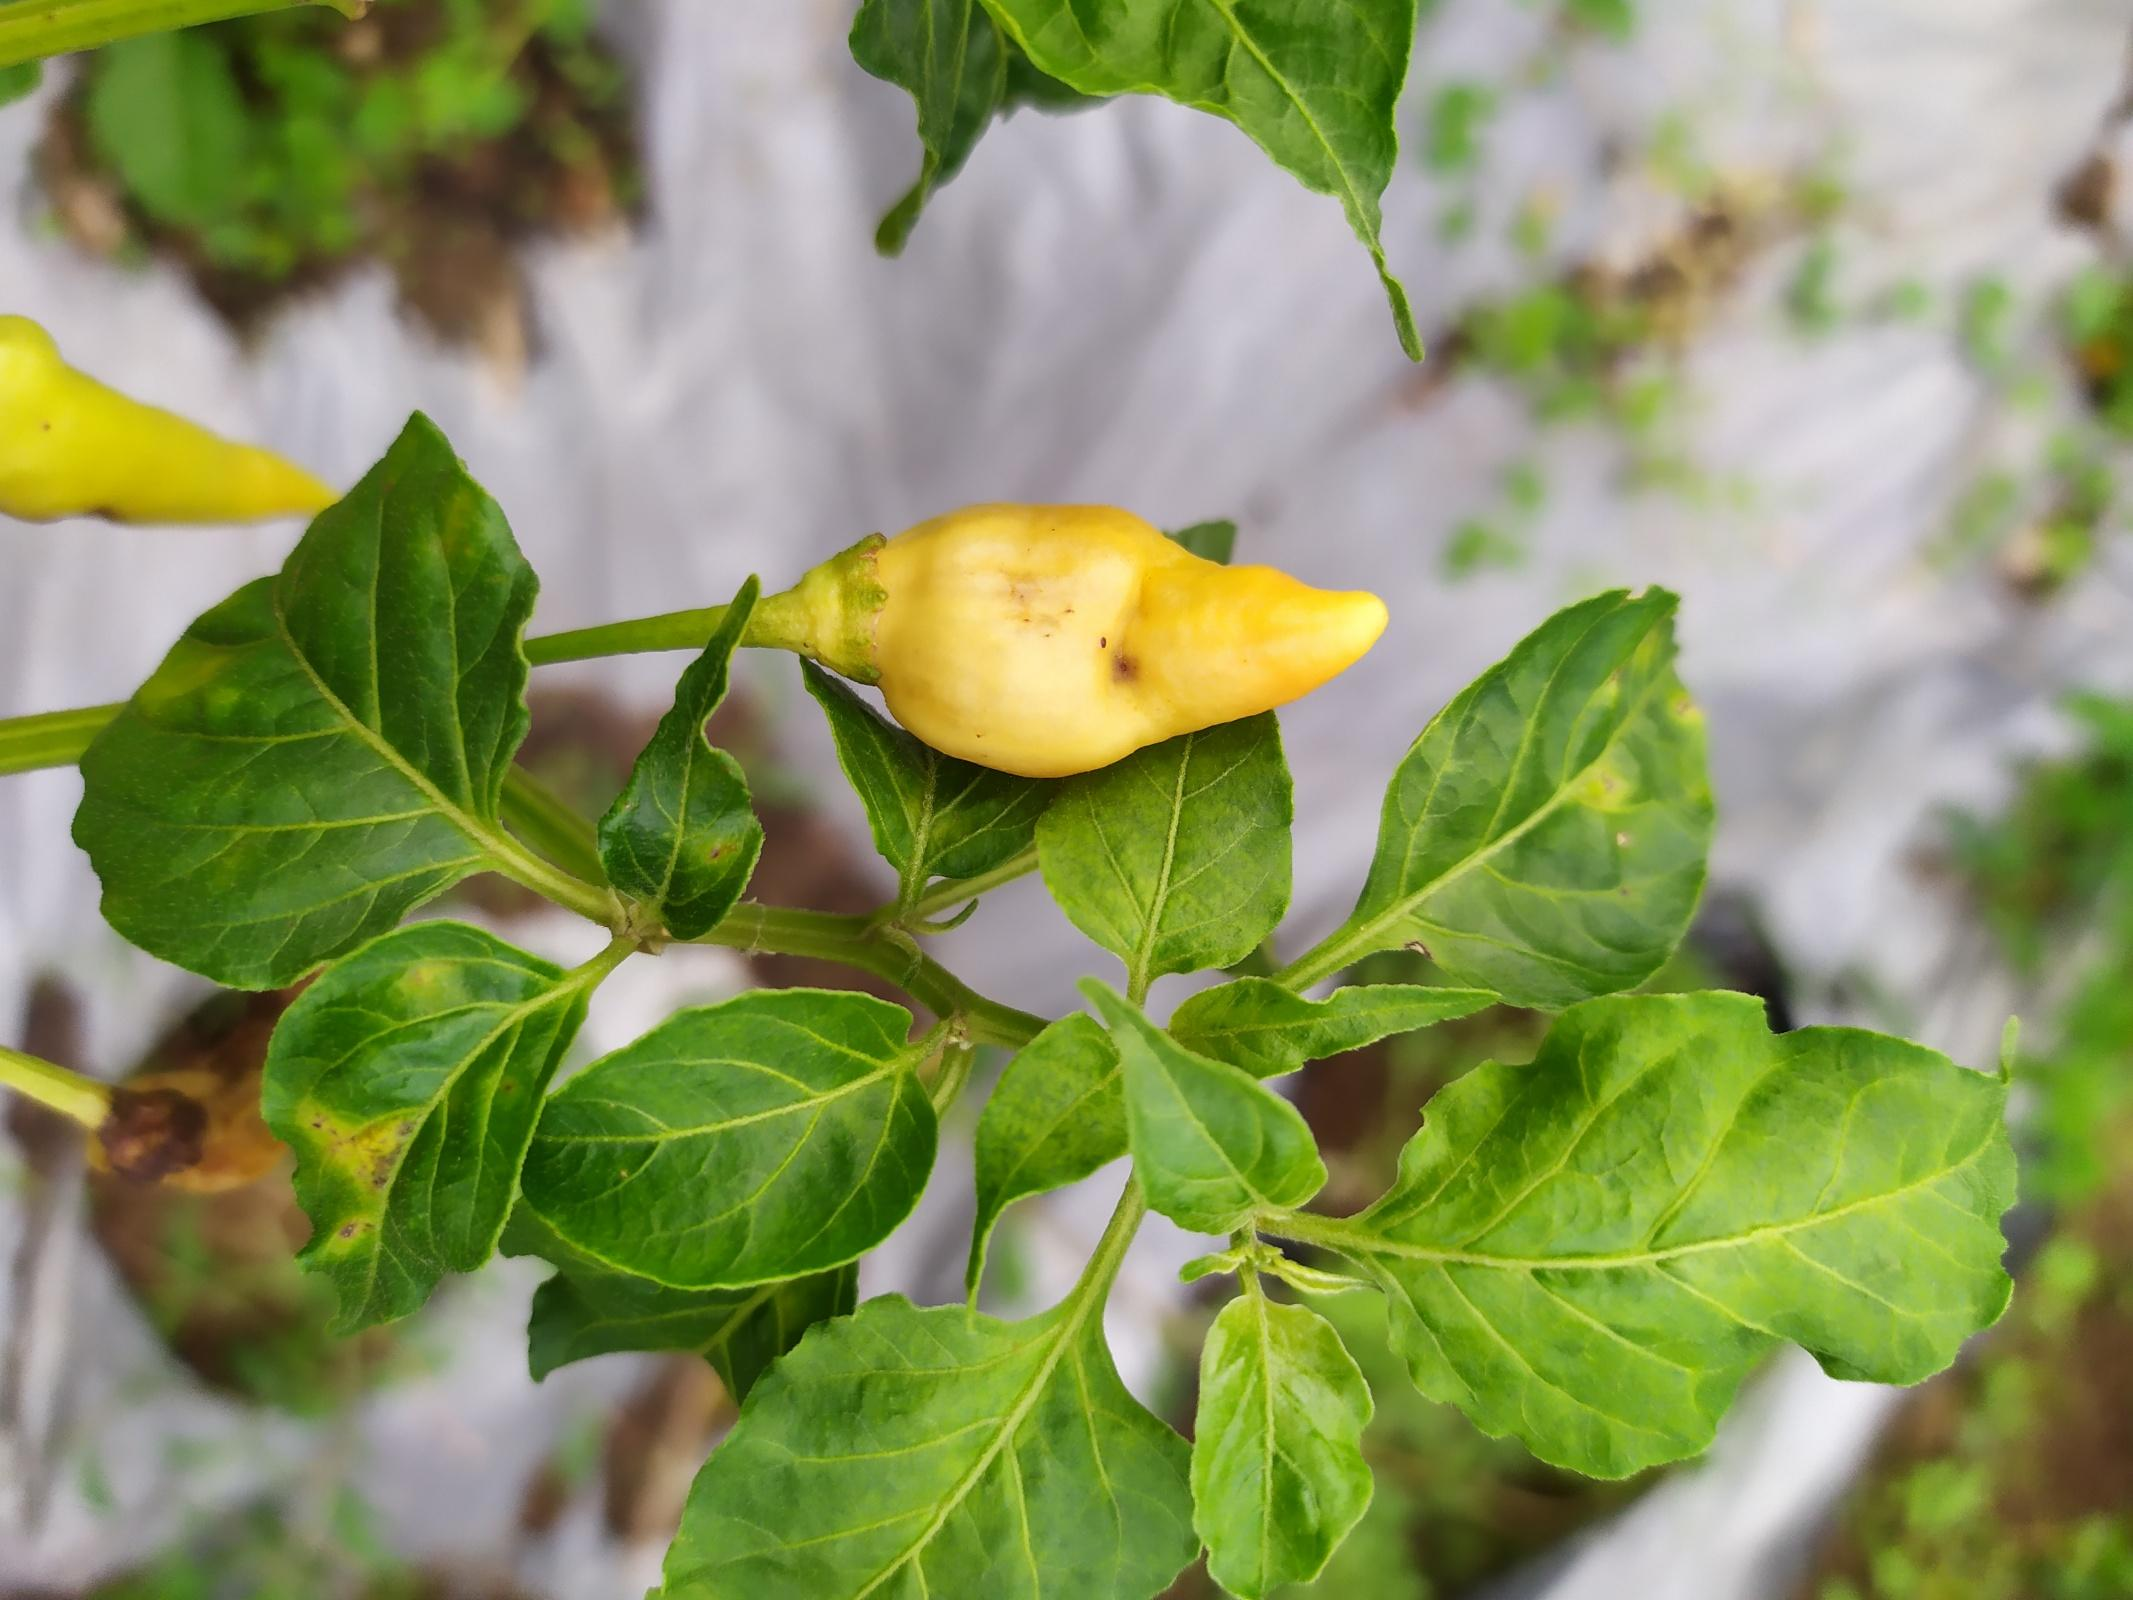cabai_normal: (2, 313, 340, 533)
lalat_buah: (802, 501, 1392, 775)
